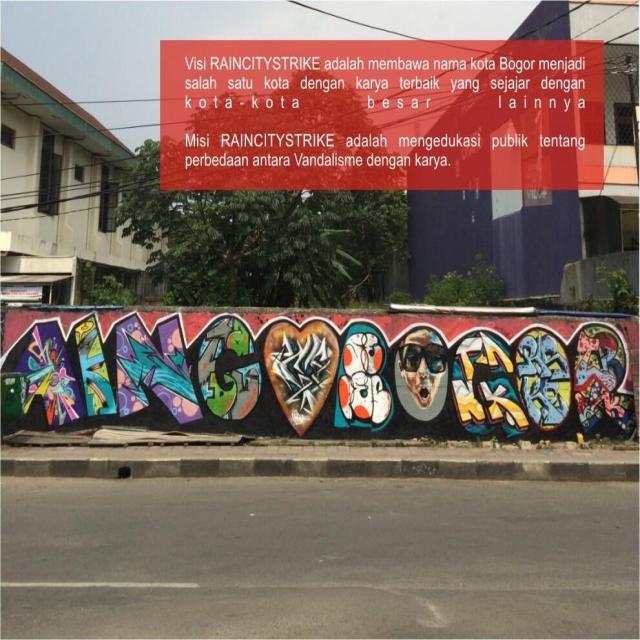-: (7, 312, 640, 441)
